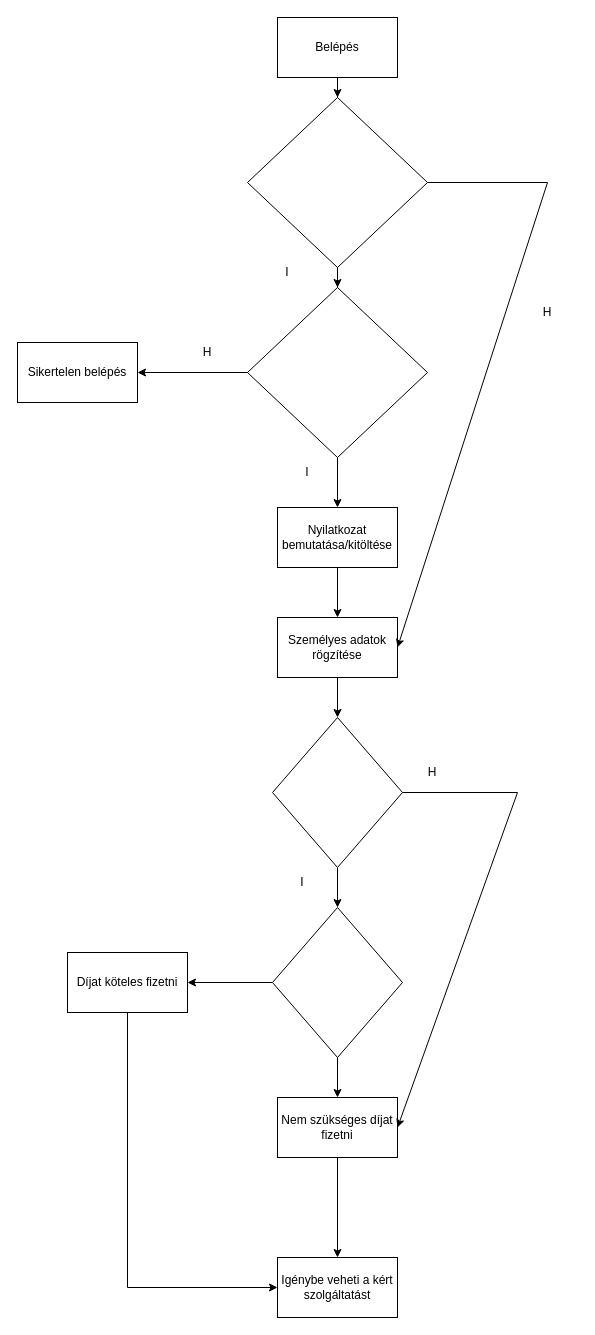
Image size: 595x1335. Some labels were removed from this diagram. Here are the shapes that lost their labels. From the top down, the box of each, then its label:
(246, 96, 428, 268): Kiskorú/Gyámság alatt áll?
(246, 286, 428, 458): Felelősséget vállal e érte, a jogosult személy?
(272, 716, 402, 868): Fizetős szolgáltatást vesz igénybe?
(272, 906, 402, 1058): Hallható/Dolgozó /Nyugdíjas?
